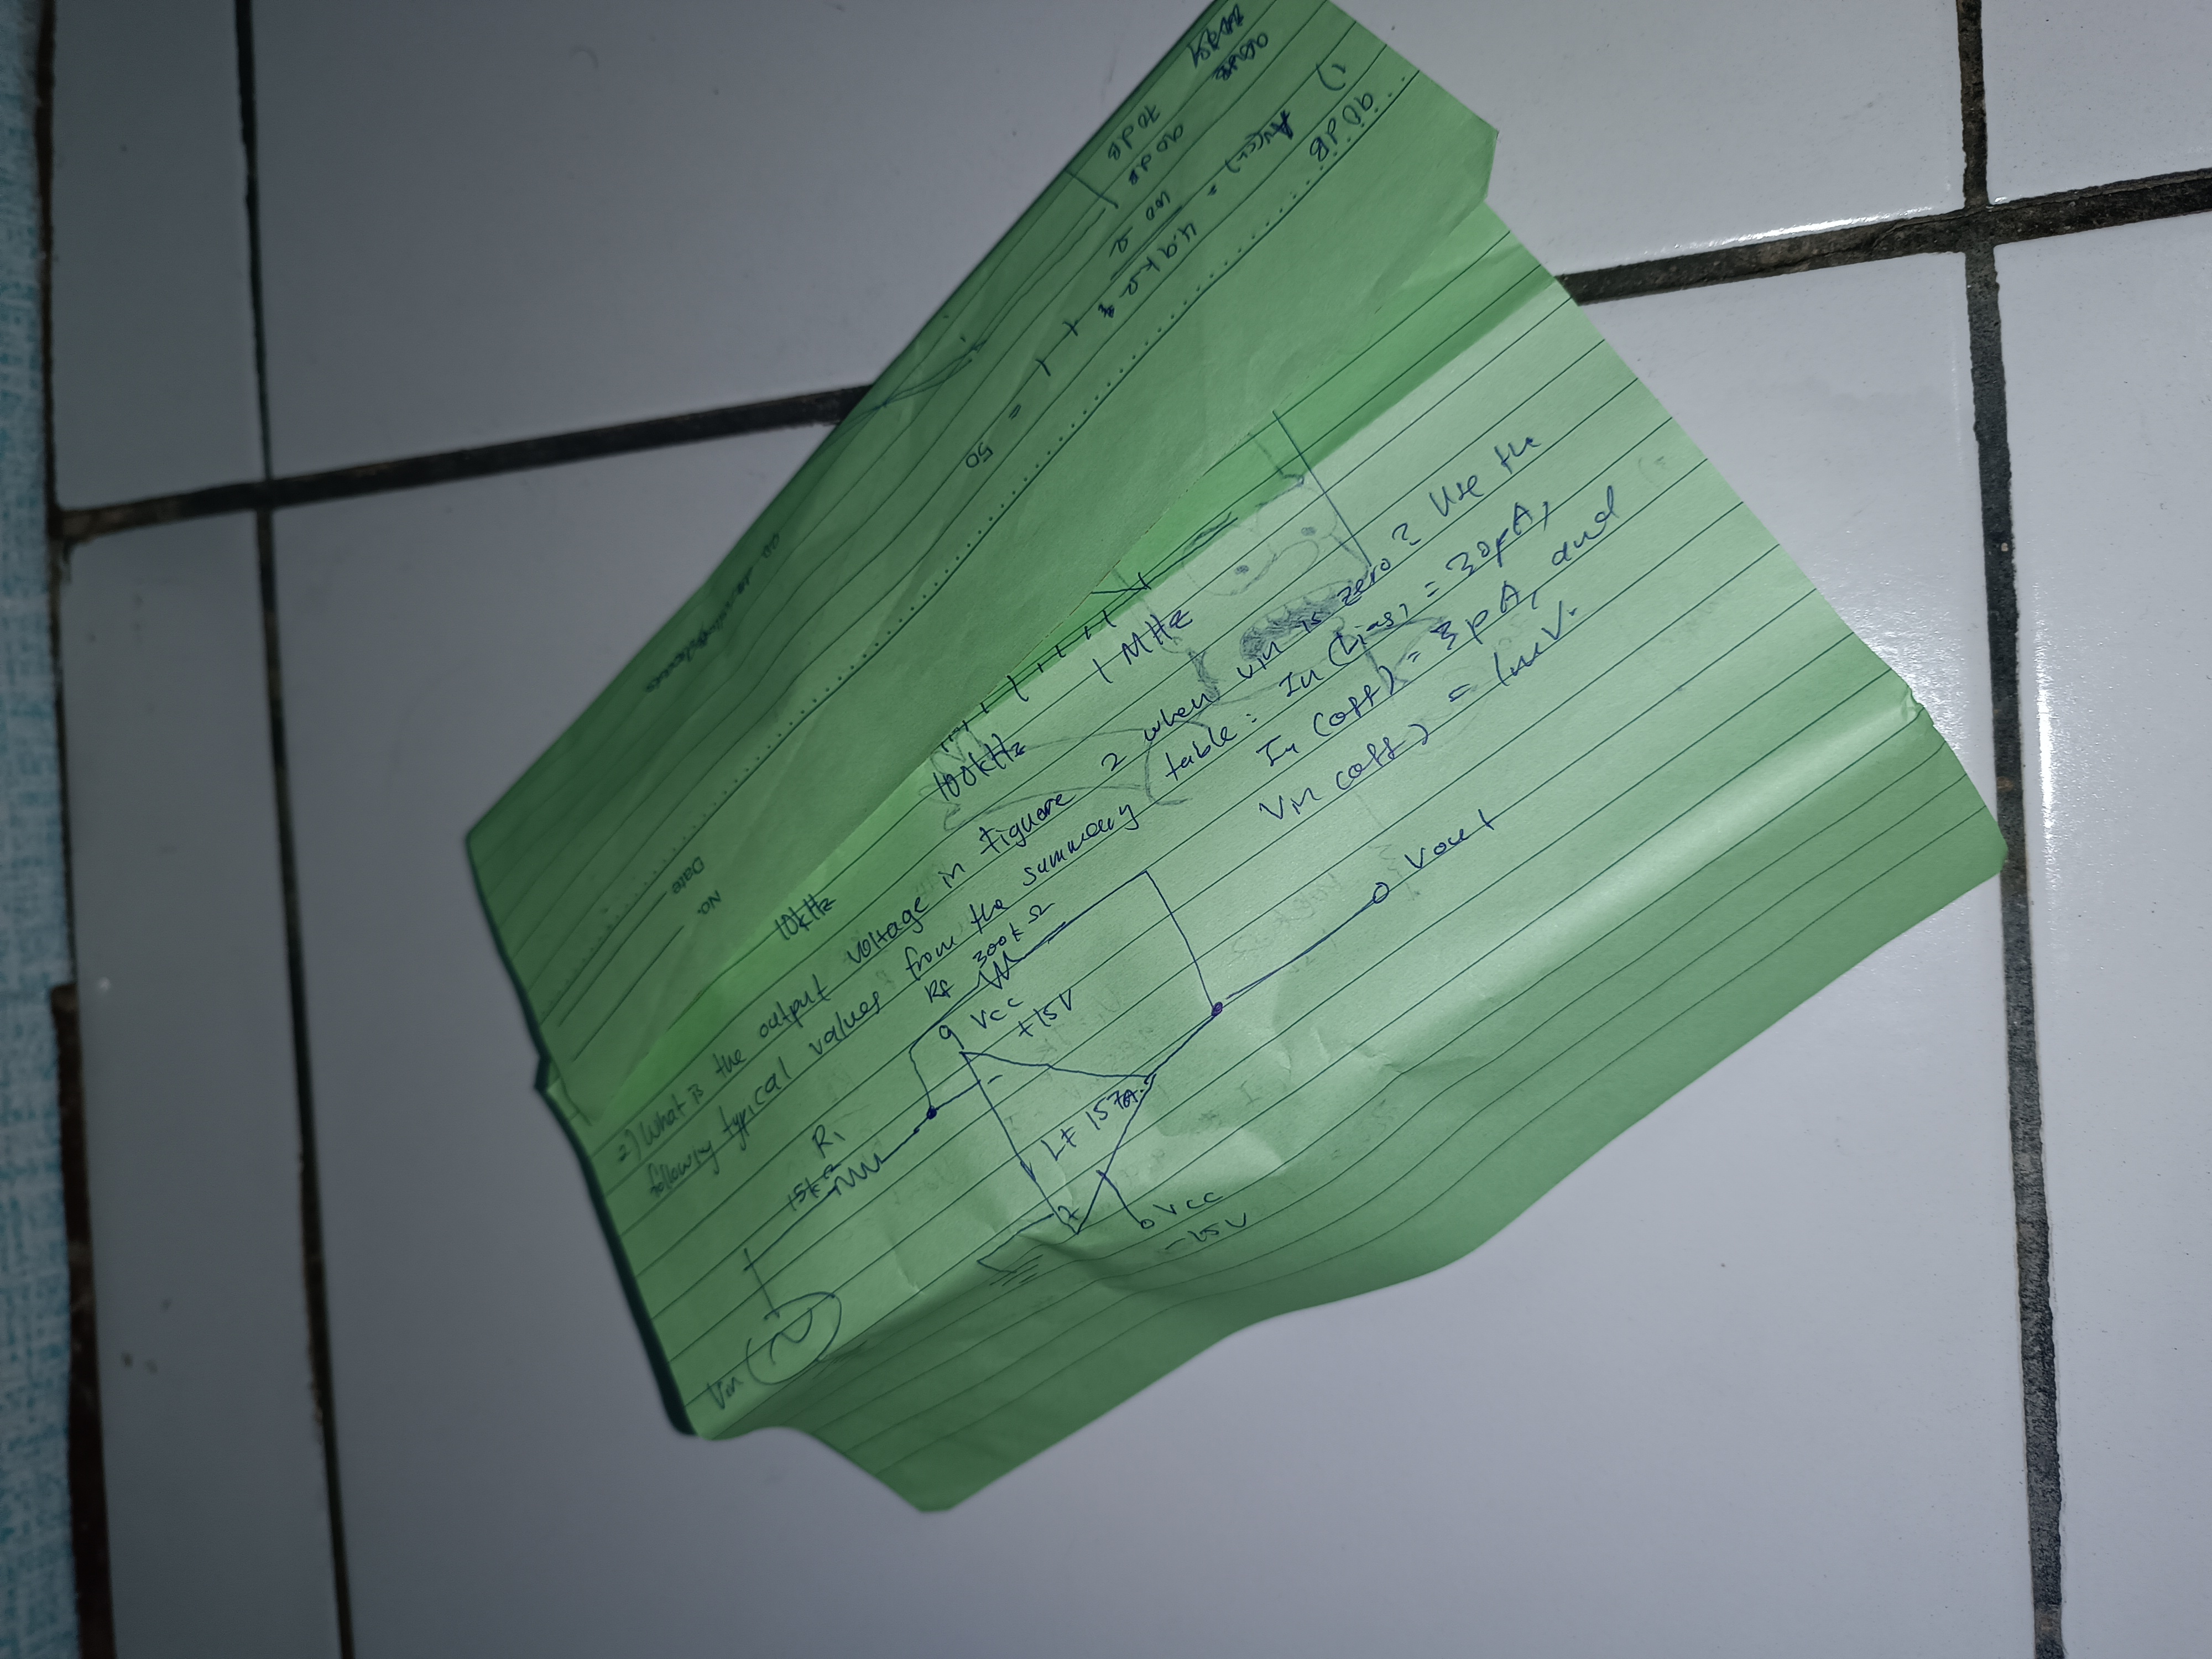Paper: (390, 122, 1839, 1429)
